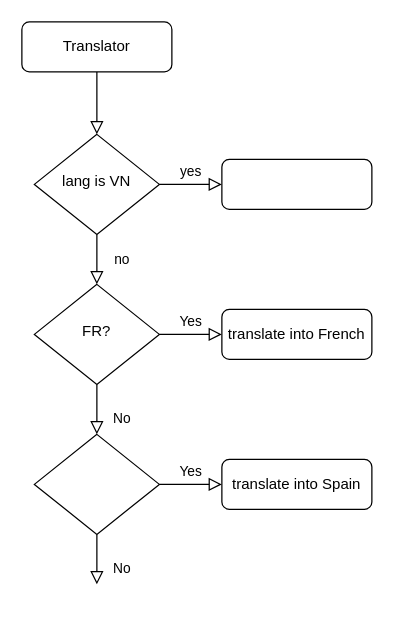
The diagram is 394 pixels wide and 619 high, and some of its shapes have lost their labels. The shapes that lost their labels are listed below. From the top down, each one's centre as x and y in pixels, then its label:
At pixel 296 183: "translate into Vietnamese".
At pixel 96 483: "ES?".
